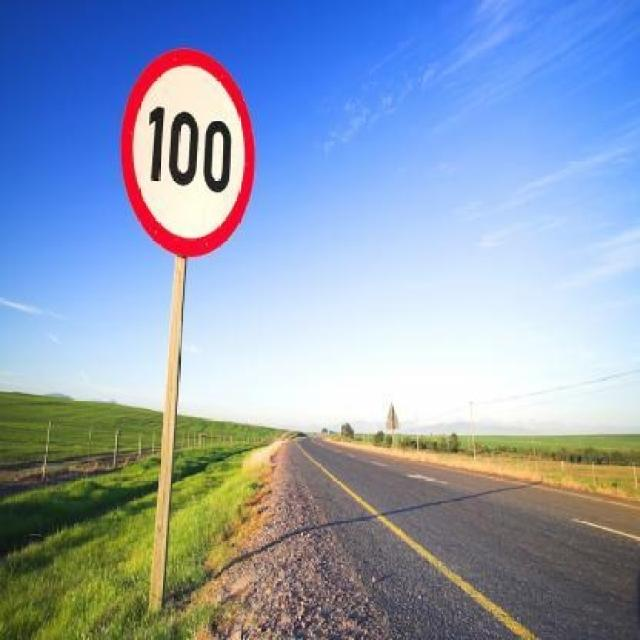forb_speed_over_100: (122, 49, 255, 257)
